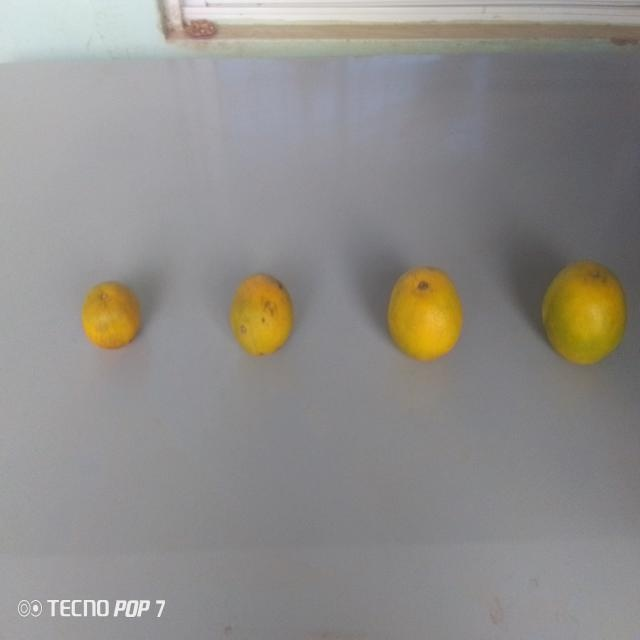agrume: (536, 255, 628, 374), (383, 251, 471, 367), (227, 268, 297, 362), (75, 278, 146, 355)
